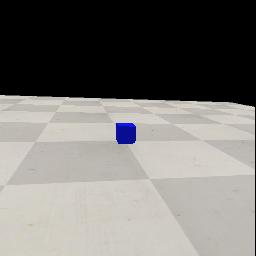box: (116, 123, 136, 144)
